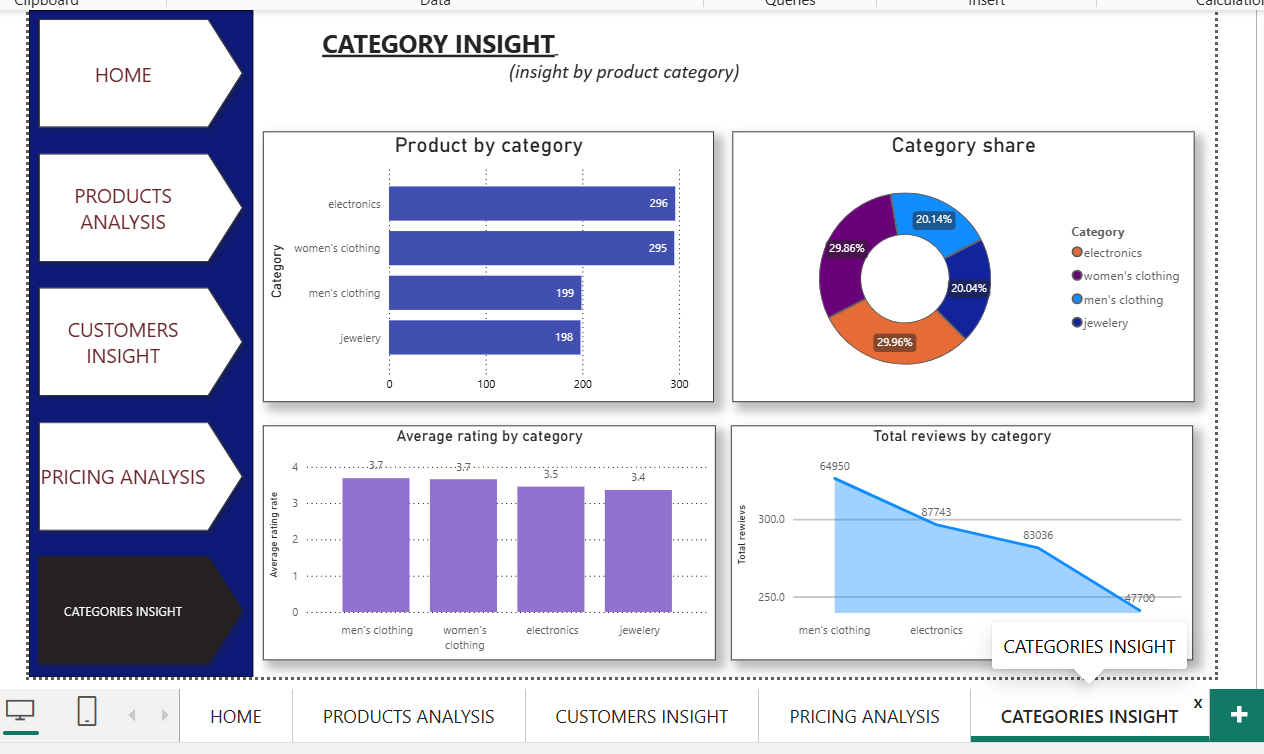

What the dashboard file says about the page in this screenshot:
{"tool":"powerbi","page":{"name":"CATEGORIES INSIGHT","canvas":[1280,720],"ordinal":4},"visuals":[{"type":"barChart","title":"Product by category","fields":{"Category":["cleaned data.Category"],"Y":["CountNonNull(cleaned data.Price_Category)"]},"box":[253.3,131.7,486.7,291.7],"z":0},{"type":"donutChart","title":"Category share","fields":{"Category":["cleaned data.Category"],"Y":["CountNonNull(cleaned data.id)"]},"box":[760,131.7,498.3,291.7],"z":1000},{"type":"columnChart","title":"Average rating by category","fields":{"Category":["cleaned data.Category"],"Y":["Avg(cleaned data.rating_rate)"]},"box":[253.3,448.3,488.3,253.3],"z":2000},{"type":"areaChart","title":"Total reviews by category ","fields":{"Category":["cleaned data.Category"],"Y":["Avg(cleaned data.rating_count)"]},"box":[758.3,448.3,498.3,253.3],"z":3000},{"type":"pageNavigator","title":"s","box":[0,0,241.7,720],"z":4000},{"type":"textbox","box":[253.3,13.3,535,91.7],"z":5000}]}

Visuals, with their boxes on the page's 1280x720 design canvas (x1, y1, x2, y2). These are canvas units, not pixel positions in the 1264x754 screenshot, which may show the page scaled, cropped or inside an application window:
"Product by category" barChart: [253, 132, 740, 423]
"Category share" donutChart: [760, 132, 1258, 423]
"Average rating by category" columnChart: [253, 448, 742, 702]
"Total reviews by category " areaChart: [758, 448, 1257, 702]
"s" pageNavigator: [0, 0, 242, 720]
textbox: [253, 13, 788, 105]
